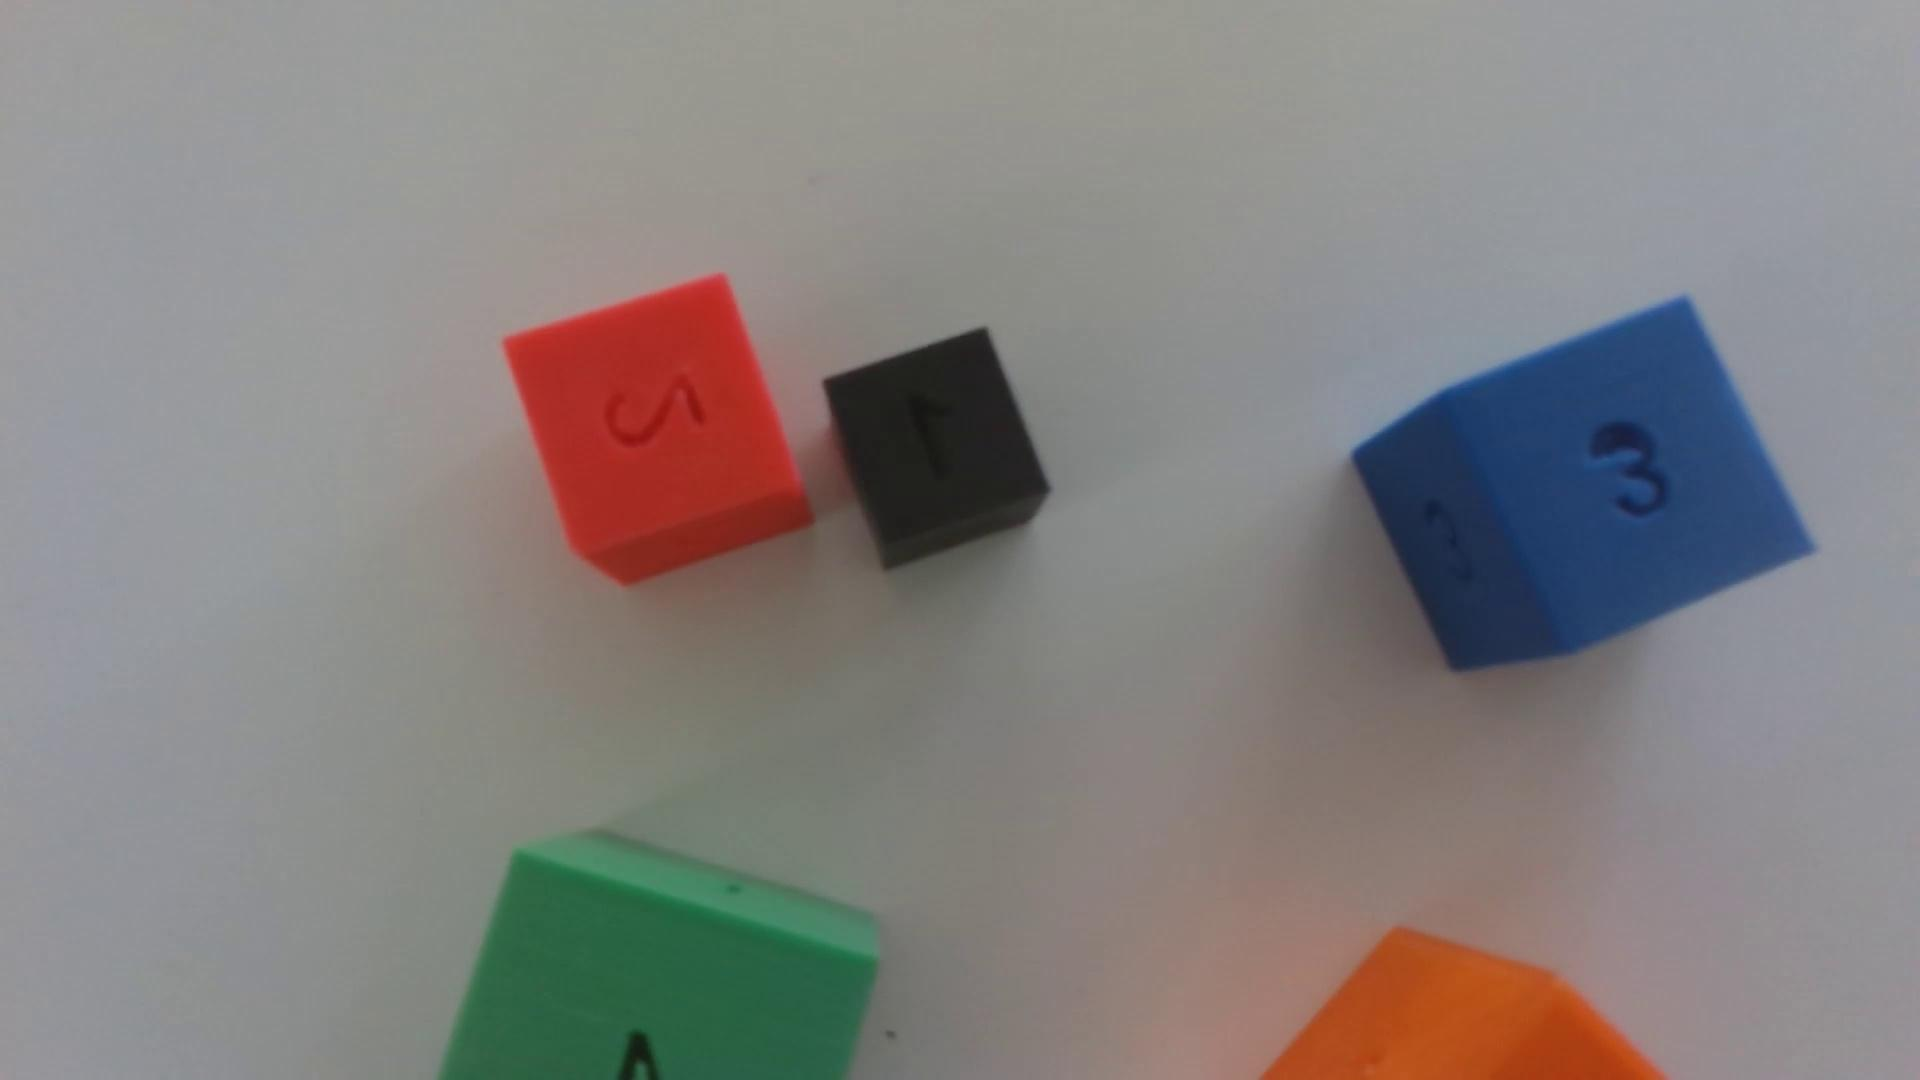black: (824, 328, 1050, 568)
blue: (1353, 301, 1813, 671)
green: (440, 833, 880, 1080)
orange: (1263, 930, 1664, 1080)
red: (505, 276, 812, 585)
